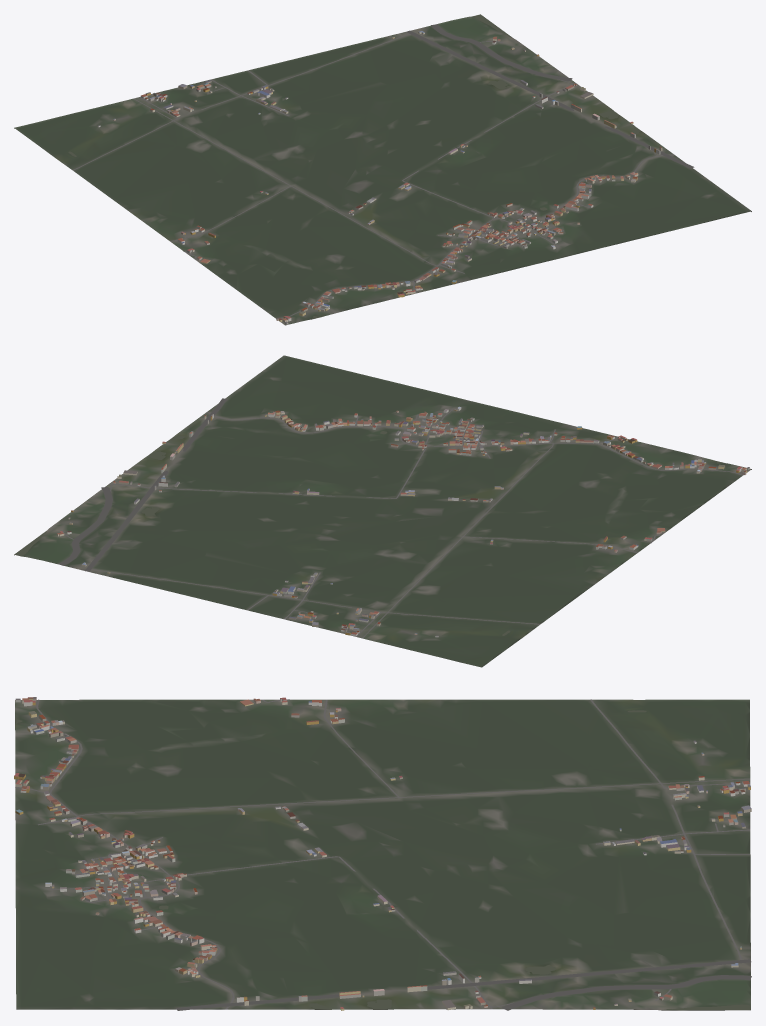
3 views of the same model, one above another, from view 1: azimuth 30°, elevation 25°; view 2: azimuth 150°, elevation 25°; view 3: azimuth 270°, elevation 25° (orthographic). The views are drawn at different scales.
Parts seen in each view (by area): view 1: ground, buildings, roads, water; view 2: ground, buildings, roads, water; view 3: ground, buildings, roads, water.
Boxes of the visible parts, box(x1,y1,x2,y2) form: ground: box(14, 15, 751, 325); buildings: box(97, 31, 662, 324); roads: box(72, 24, 694, 318); water: box(68, 14, 640, 318); ground: box(14, 355, 751, 667); buildings: box(57, 406, 749, 637); roads: box(58, 398, 742, 638); water: box(15, 431, 723, 635); ground: box(15, 699, 750, 1010); buildings: box(14, 697, 751, 1010); roads: box(15, 699, 751, 1010); water: box(15, 710, 750, 1009).
Bounding box in the file's own units: 1408 × 15.76 × 1408.
